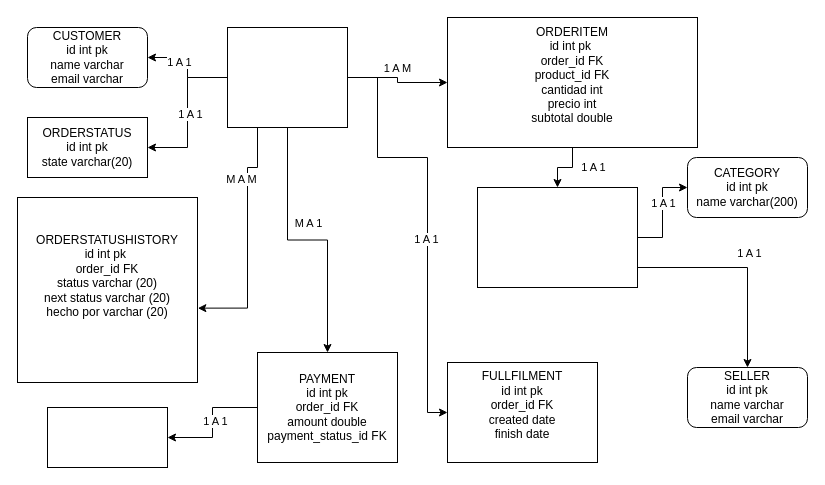
This 825x485 diagram has some shape labels left out. Here are the shapes that lost their labels. From the top down, the centre of each, then its label:
At (x=287, y=77): "ORDER id int pk customer_id FK order_status_id FK amout int".
At (x=557, y=237): "PRODUCT id int pk name varchar precio int seller_id Fk category_id FK".
At (x=107, y=437): "PAYMENT STATUS id int pf state varchar(20)".
